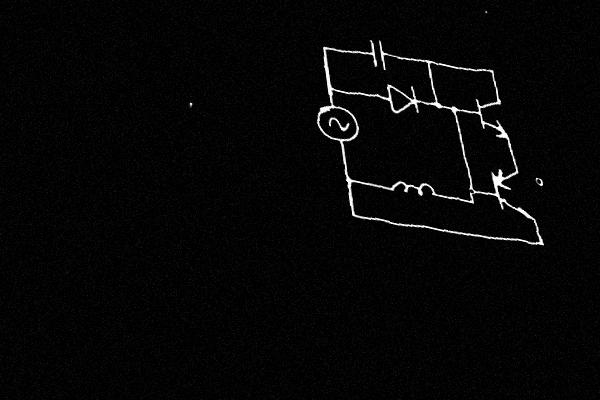capacitor: (365, 35, 391, 73)
diode: (383, 78, 427, 123)
inductor: (381, 171, 442, 205)
signal: (311, 96, 362, 152)
